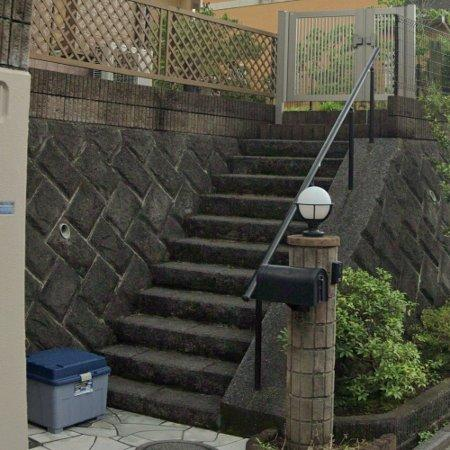stairs: (103, 140, 323, 429)
